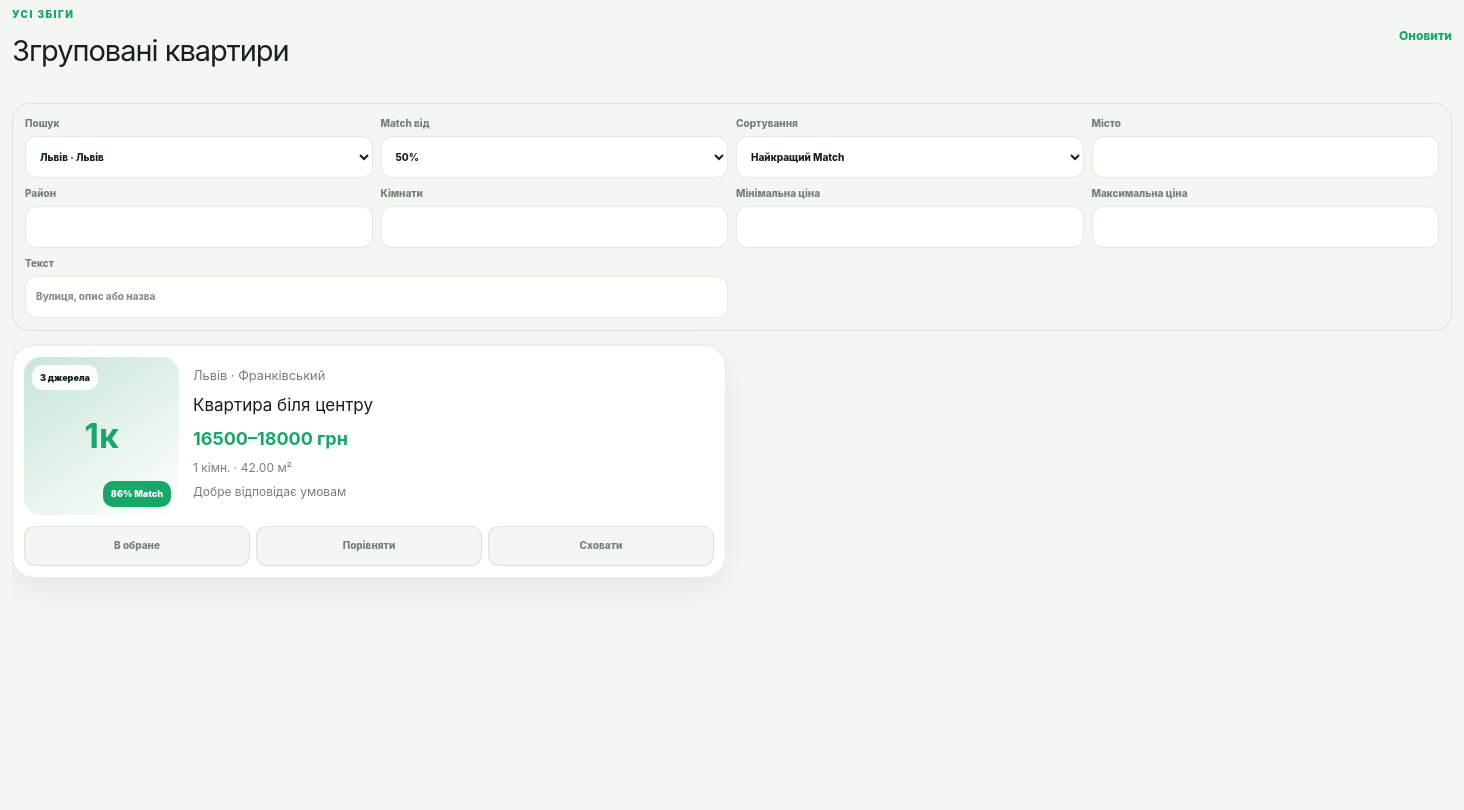
SearchResultsWorkspace › persists favorite state at cluster level
Step 1. Click the button "В обране" → (137, 546), box [24,526,250,566]
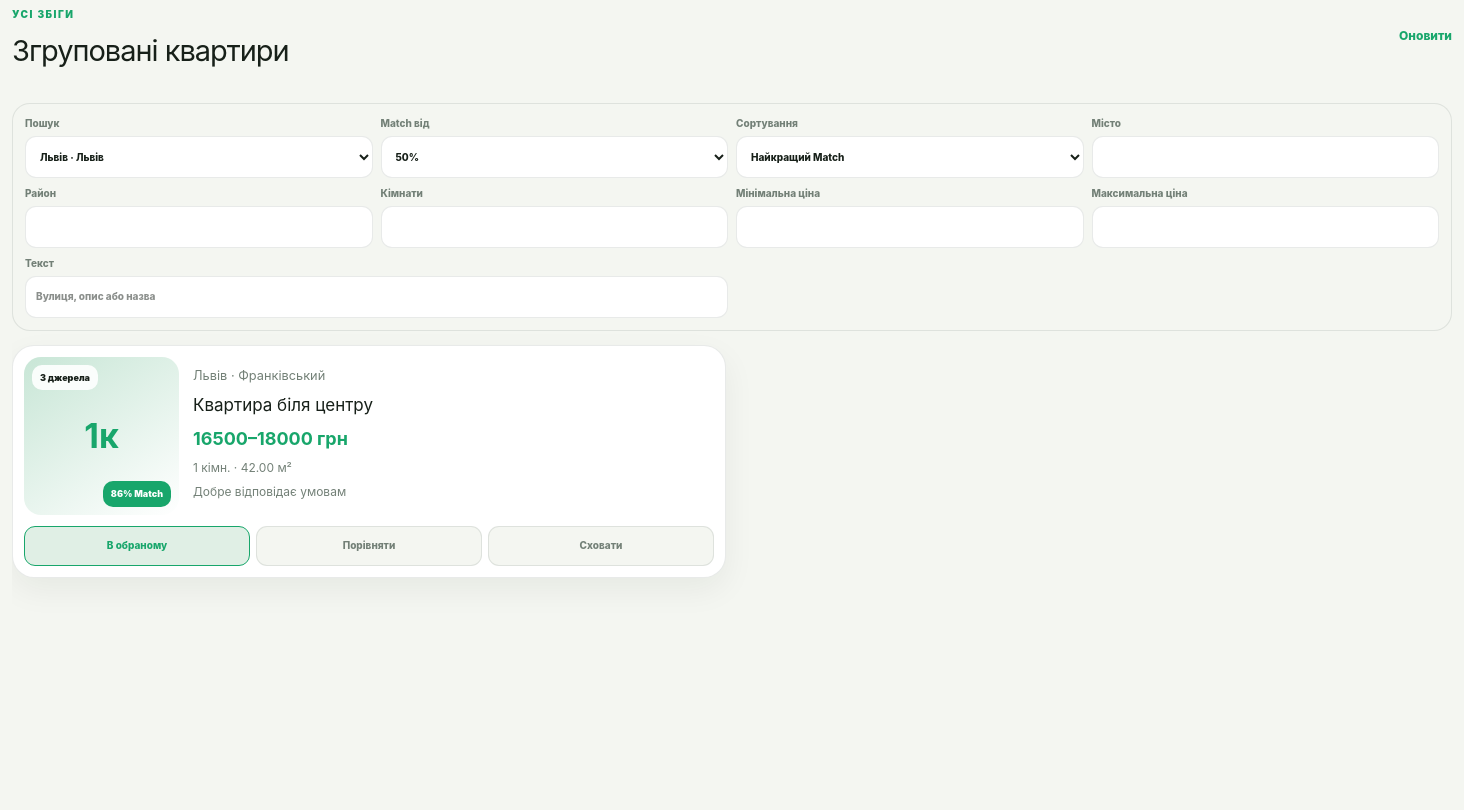
expect the button "В обраному" is shown: met, box [24,526,250,566]
